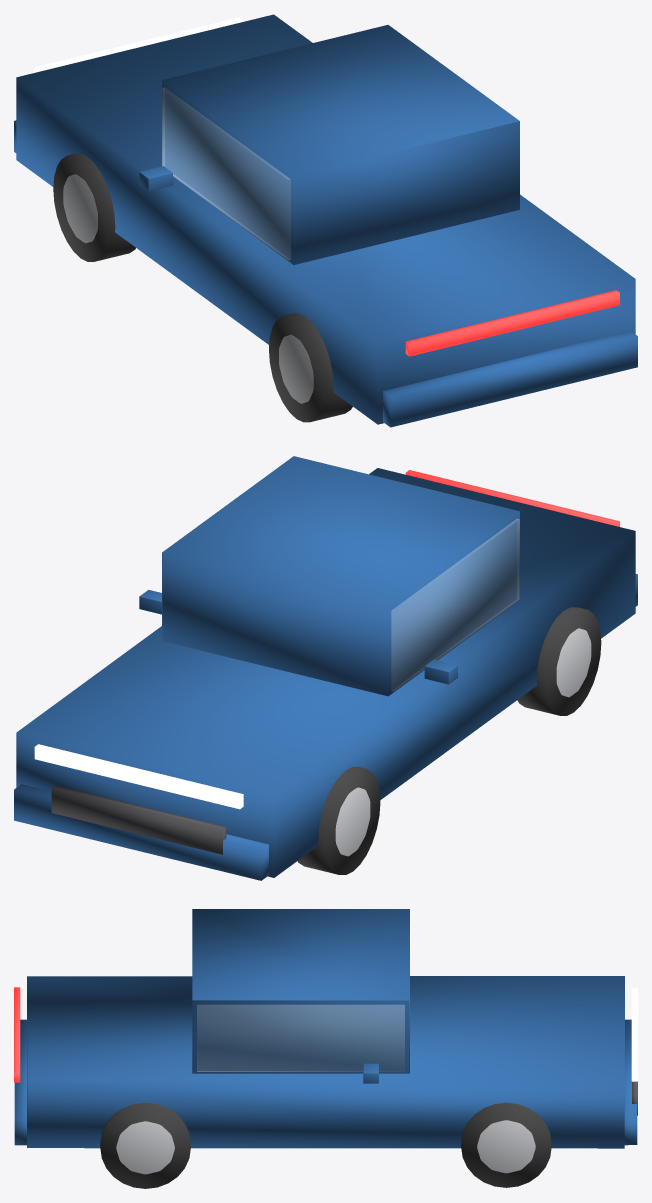
File: vehicle.glb
3 views of the same model, one above another, from view 1: azimuth 30°, elevation 25°; view 2: azimuth 150°, elevation 25°; view 3: azimuth 270°, elevation 25° (orthographic). The views are drawn at different scales.
Parts seen in each view (by area): view 1: BODY_Main, BODY_Roof, GLASS_Greenhouse, BODY_Bumpers_Rear, WHEEL_RR_Tire, WHEEL_FR_Tire, LIGHT_Taillights, WHEEL_FR_Alloy, WHEEL_RR_Alloy, LIGHT_Headlights, BODY_Mirror_R; view 2: BODY_Main, BODY_Roof, GLASS_Greenhouse, BODY_Bumpers_Front, BODY_Grille, WHEEL_RR_Tire, WHEEL_FR_Tire, LIGHT_Headlights, WHEEL_RR_Alloy, WHEEL_FR_Alloy, LIGHT_Taillights, BODY_Mirror_R; view 3: BODY_Main, BODY_Roof, GLASS_Greenhouse, WHEEL_RL_Tire, WHEEL_FL_Tire, WHEEL_RL_Alloy, WHEEL_FL_Alloy, BODY_Bumpers_Rear, BODY_Bumpers_Front, LIGHT_Taillights, LIGHT_Headlights.
Boxes of the visible parts, x1=… form: BODY_Main: x1=16, y1=14, x2=635, y2=424; BODY_Roof: x1=162, y1=25, x2=519, y2=264; GLASS_Greenhouse: x1=162, y1=87, x2=290, y2=260; BODY_Bumpers_Rear: x1=383, y1=330, x2=637, y2=427; WHEEL_RR_Tire: x1=269, y1=313, x2=352, y2=422; WHEEL_FR_Tire: x1=53, y1=153, x2=135, y2=261; LIGHT_Taillights: x1=405, y1=290, x2=619, y2=356; WHEEL_FR_Alloy: x1=63, y1=174, x2=97, y2=243; WHEEL_RR_Alloy: x1=279, y1=334, x2=313, y2=403; LIGHT_Headlights: x1=34, y1=17, x2=243, y2=72; BODY_Mirror_R: x1=139, y1=166, x2=172, y2=191; BODY_Main: x1=16, y1=468, x2=635, y2=877; BODY_Roof: x1=162, y1=456, x2=519, y2=696; GLASS_Greenhouse: x1=391, y1=518, x2=519, y2=691; BODY_Bumpers_Front: x1=14, y1=784, x2=268, y2=880; BODY_Grille: x1=51, y1=785, x2=226, y2=854; WHEEL_RR_Tire: x1=517, y1=607, x2=601, y2=715; WHEEL_FR_Tire: x1=297, y1=767, x2=380, y2=874; LIGHT_Headlights: x1=34, y1=744, x2=243, y2=809; WHEEL_RR_Alloy: x1=556, y1=628, x2=591, y2=697; WHEEL_FR_Alloy: x1=335, y1=787, x2=370, y2=856; LIGHT_Taillights: x1=405, y1=470, x2=619, y2=526; BODY_Mirror_R: x1=424, y1=659, x2=457, y2=684; BODY_Main: x1=27, y1=976, x2=624, y2=1148; BODY_Roof: x1=192, y1=909, x2=409, y2=1073; GLASS_Greenhouse: x1=197, y1=1005, x2=404, y2=1071; WHEEL_RL_Tire: x1=100, y1=1102, x2=190, y2=1188; WHEEL_FL_Tire: x1=461, y1=1102, x2=551, y2=1187; WHEEL_RL_Alloy: x1=116, y1=1121, x2=174, y2=1174; WHEEL_FL_Alloy: x1=477, y1=1120, x2=535, y2=1173; BODY_Bumpers_Rear: x1=14, y1=1019, x2=26, y2=1145; BODY_Bumpers_Front: x1=624, y1=1019, x2=637, y2=1145; LIGHT_Taillights: x1=14, y1=987, x2=20, y2=1082; LIGHT_Headlights: x1=631, y1=988, x2=637, y2=1081.
Size of the model in its own units: 2.28 by 1.52 by 4.81.
